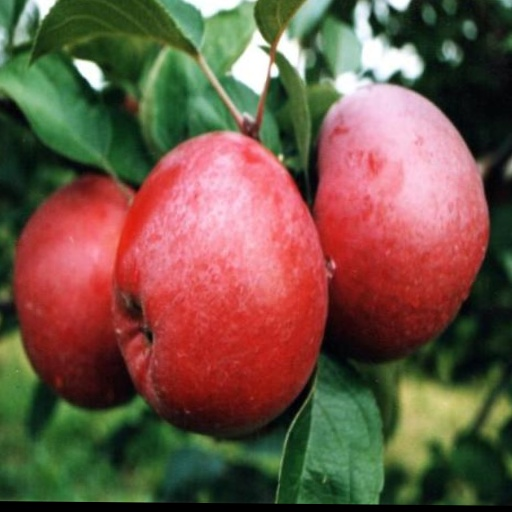fruit: (114, 132, 327, 436), (314, 85, 487, 361), (14, 176, 133, 407)
